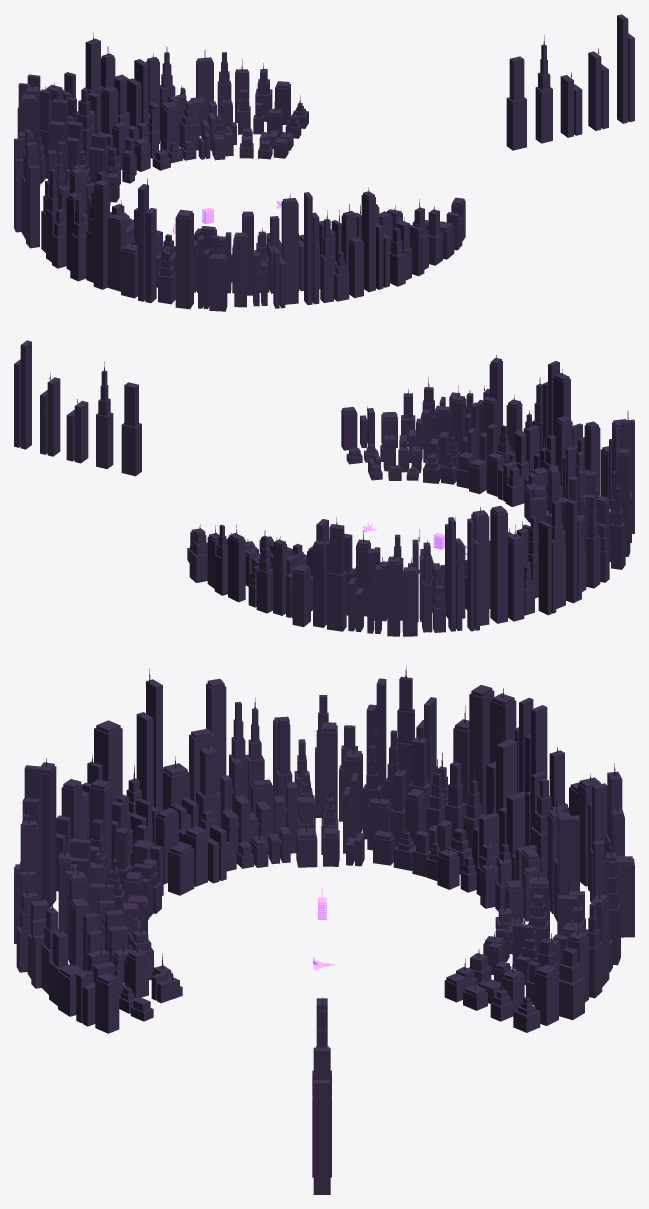
File: environment.glb
3 views of the same model, one above another, from view 1: azimuth 30°, elevation 25°; view 2: azimuth 150°, elevation 25°; view 3: azimuth 270°, elevation 25° (orthographic). The views are drawn at different scales.
Parts seen in each view (by area): view 1: Skyline, Tower_4, Tower_0, Tower_3, Tower_1, Tower_2; view 2: Skyline, Tower_4, Tower_0, Tower_3, Tower_1, Tower_2; view 3: Skyline, Tower_4.
Boxes of the visible parts, x1=… form: Skyline: x1=14, y1=33, x2=465, y2=311; Tower_4: x1=617, y1=14, x2=634, y2=123; Tower_0: x1=506, y1=56, x2=526, y2=150; Tower_3: x1=588, y1=48, x2=608, y2=130; Tower_1: x1=535, y1=35, x2=552, y2=143; Tower_2: x1=560, y1=72, x2=582, y2=137; Skyline: x1=187, y1=355, x2=634, y2=636; Tower_4: x1=14, y1=340, x2=31, y2=449; Tower_0: x1=121, y1=382, x2=141, y2=476; Tower_3: x1=40, y1=373, x2=60, y2=456; Tower_1: x1=96, y1=361, x2=113, y2=468; Tower_2: x1=66, y1=399, x2=88, y2=463; Skyline: x1=14, y1=666, x2=634, y2=1033; Tower_4: x1=313, y1=1047, x2=330, y2=1194.
Bounding box in the file's own units: 129 × 27.05 × 88.12.
